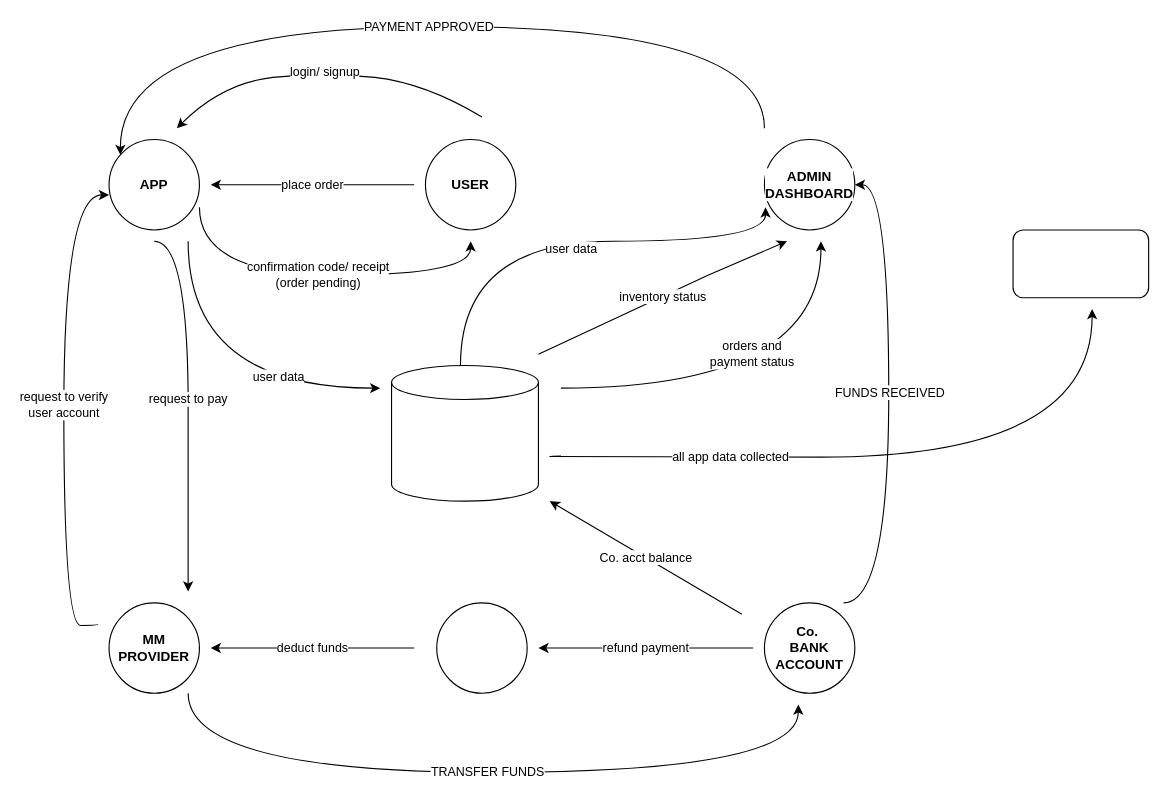
This 1168x799 diagram has some shape labels left out. Here are the shapes that lost their labels. From the top down, the centre of each, then its label:
point 1080,263: GIS SERVER
point 464,432: DATABASE
point 481,647: MM WALLET
